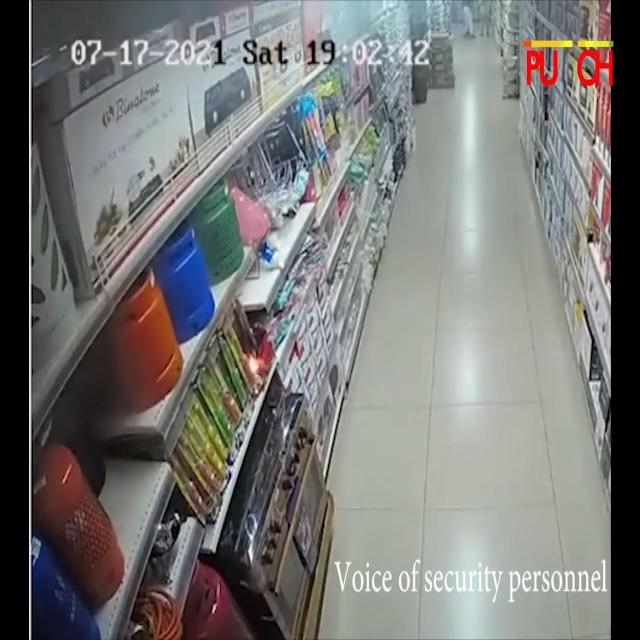fire: (248, 351, 260, 374)
